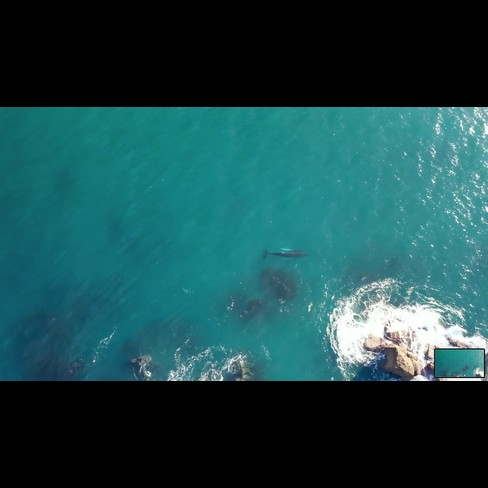hump: (253, 242, 314, 265)
